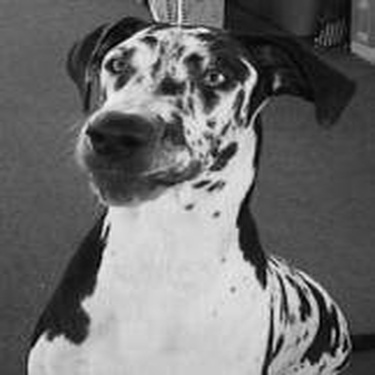dog: (20, 9, 359, 370)
